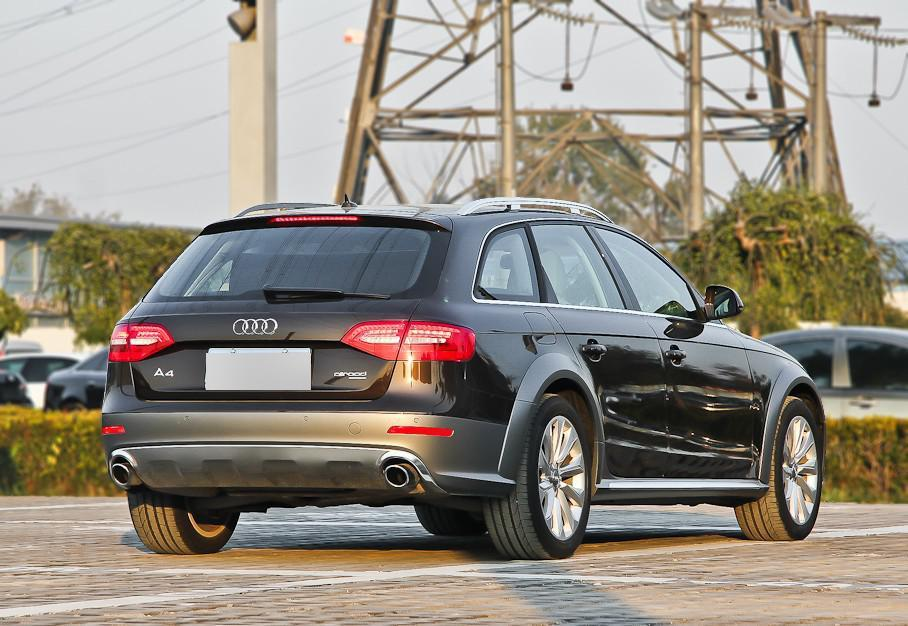Wagon: (99, 193, 828, 561)
